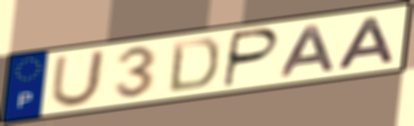3: (113, 44, 160, 101)
A: (335, 15, 397, 72), (279, 23, 339, 79)
D: (165, 36, 221, 94)
P: (220, 26, 283, 90)
U: (48, 48, 108, 109)
